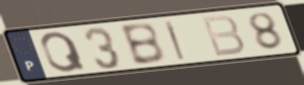3: (83, 25, 123, 71)
8: (245, 11, 285, 51)
B: (117, 20, 168, 67), (198, 13, 247, 59)
I: (162, 19, 188, 62)
Q: (39, 30, 89, 74)
